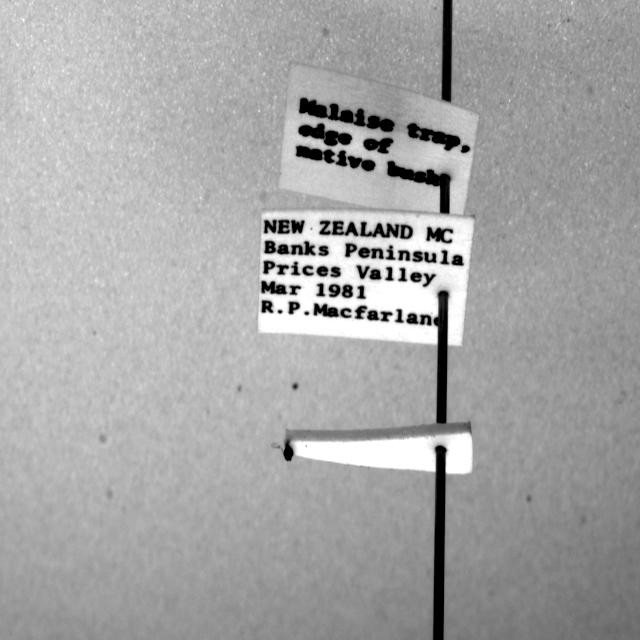typed_label: (280, 64, 479, 214), (258, 210, 474, 345)
